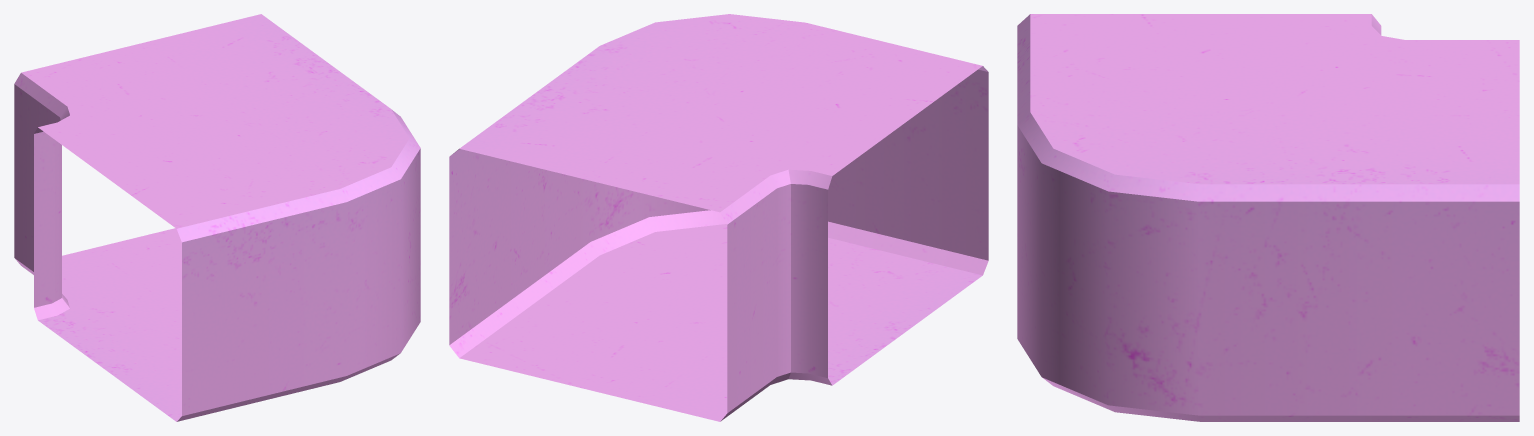
The model's file is AirDuctCorner_02_SM_Low.fbx.
3 views of the same model, side by side, from view 1: azimuth 30°, elevation 25°; view 2: azimuth 150°, elevation 25°; view 3: azimuth 270°, elevation 25° (orthographic). The views are drawn at different scales.
Visible parts, largest first — view 1: Corner; view 2: Corner; view 3: Corner.
Part boxes in pixels (box(x1,y1,x2,y2)): Corner: box(14, 14, 420, 421); Corner: box(449, 14, 988, 421); Corner: box(1017, 14, 1519, 421).
Bounding box in the file's own units: 102 × 64 × 123.
Materials: 1 (1 with a texture image).
